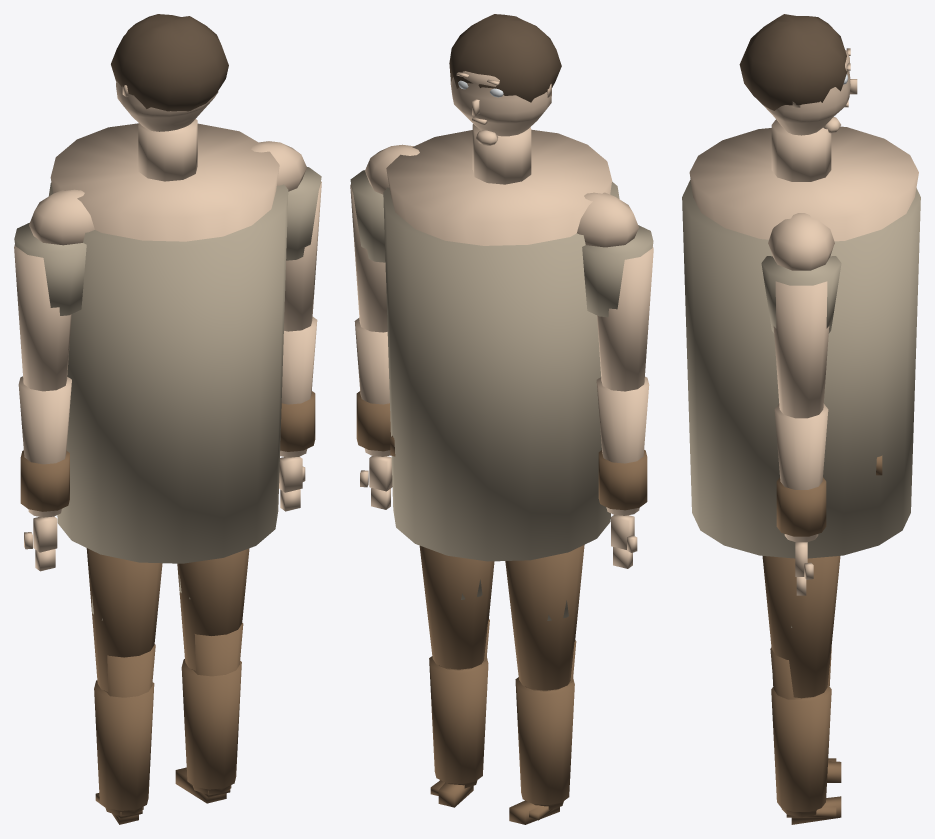
Rendered from male_warrior.fbx.
3 views of the same model, side by side, from view 1: azimuth 30°, elevation 25°; view 2: azimuth 150°, elevation 25°; view 3: azimuth 270°, elevation 25° (orthographic).
Visible parts, largest first — view 1: male_warrior; view 2: male_warrior; view 3: male_warrior.
Part boxes in pixels (box(x1,y1,x2,y2)): male_warrior: box(14, 14, 321, 824); male_warrior: box(350, 14, 653, 824); male_warrior: box(682, 14, 920, 824).
Size of the model in its own units: 0.6803 by 1.72 by 0.48.
